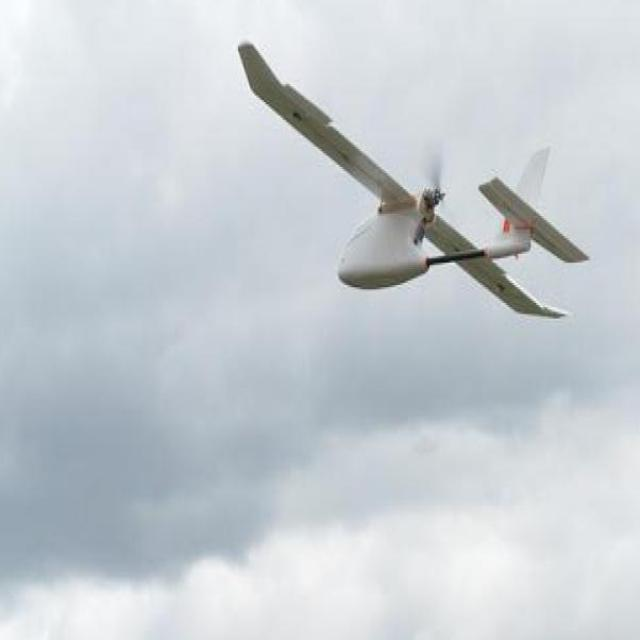plane: (237, 38, 591, 321)
